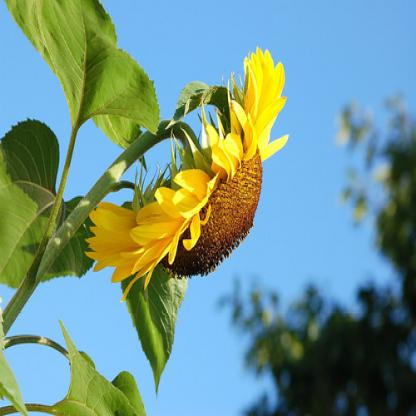SUN FLOWER: (86, 46, 319, 318)
